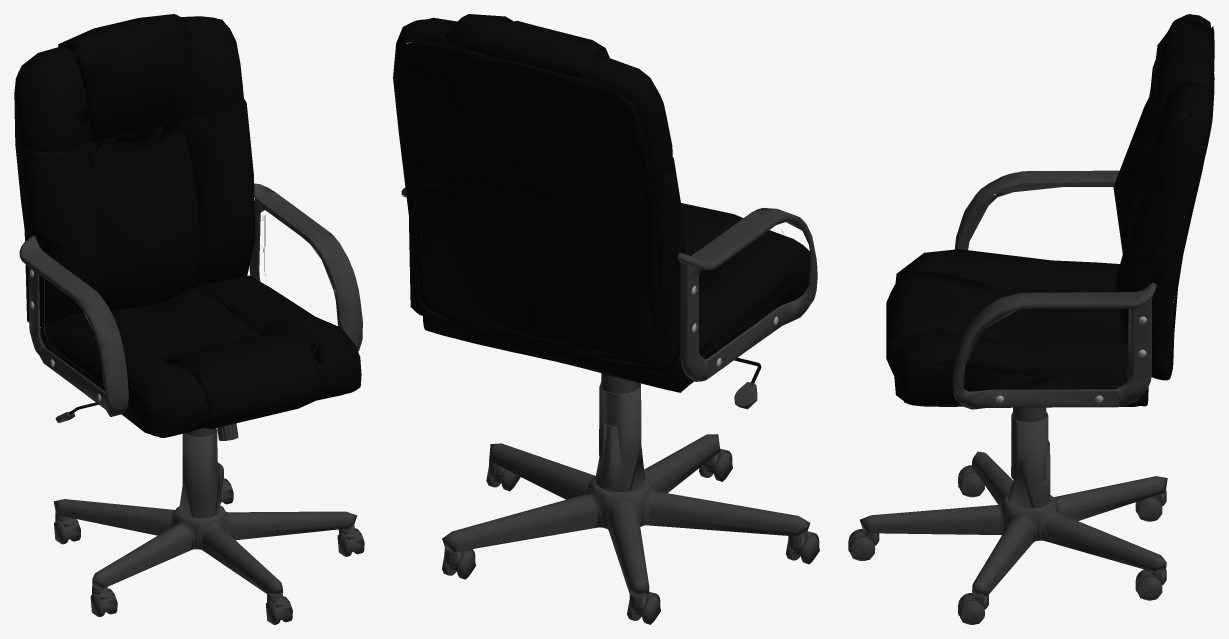
The model's file is chair_office_fabric_manager_a01.glb.
3 renders of one model, left to right at view 1: azimuth 30°, elevation 25°; view 2: azimuth 150°, elevation 25°; view 3: azimuth 270°, elevation 25°, orthographic. The views are drawn at different scales.
Parts seen in each view (by area): view 1: sm_chair_office_fabric_manager_a01_01; view 2: sm_chair_office_fabric_manager_a01_01; view 3: sm_chair_office_fabric_manager_a01_01.
Part boxes in pixels (x1=…): sm_chair_office_fabric_manager_a01_01: x1=14, y1=14, x2=364, y2=624; sm_chair_office_fabric_manager_a01_01: x1=393, y1=14, x2=819, y2=624; sm_chair_office_fabric_manager_a01_01: x1=848, y1=14, x2=1214, y2=624.
Bounding box in the file's own units: 0.6243 × 1.09 × 0.7057.
Materials: 18 (15 with a texture image).
